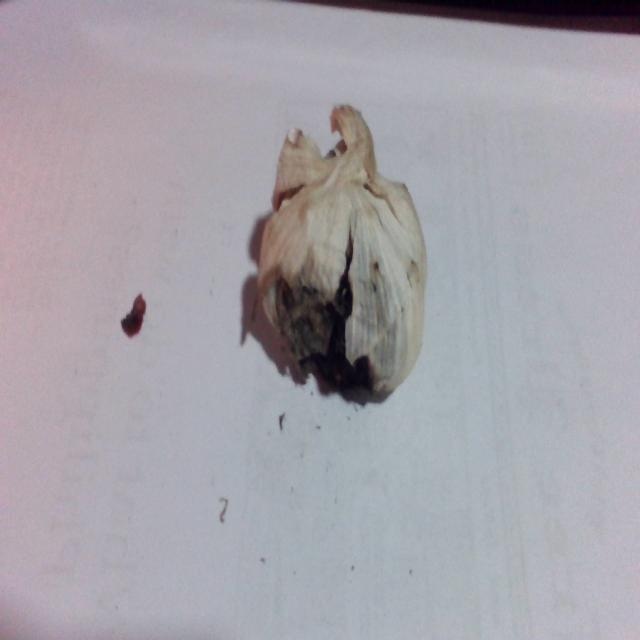garlic: (261, 146, 436, 399)
